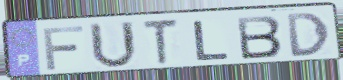B: (234, 14, 284, 61)
D: (284, 11, 332, 59)
F: (40, 24, 86, 72)
L: (193, 19, 232, 63)
T: (141, 17, 181, 67)
U: (88, 20, 140, 71)
